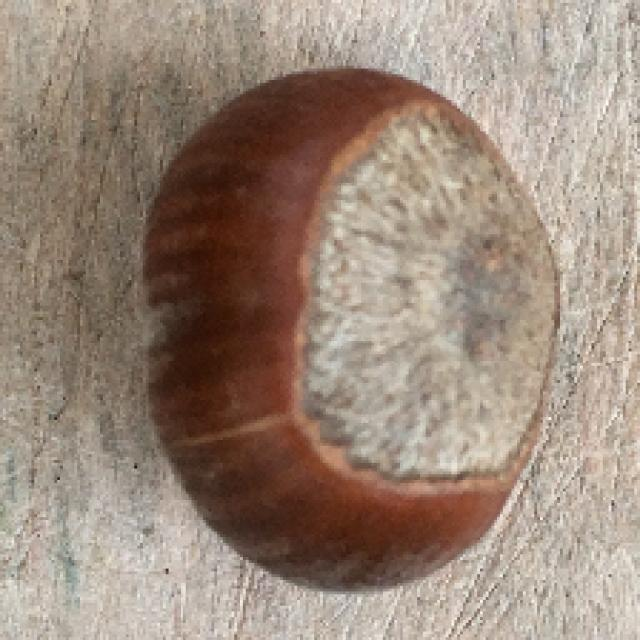qualityHazelnut: (145, 67, 563, 590)
